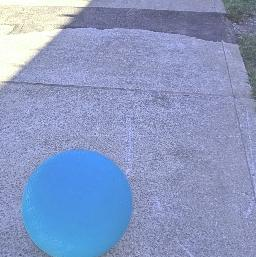algae: (21, 147, 133, 257)
